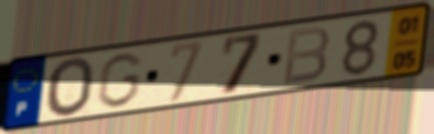7: (219, 31, 267, 98), (166, 40, 209, 104)
8: (338, 17, 384, 79)
B: (280, 24, 333, 88)
G: (94, 50, 146, 110)
O: (44, 55, 97, 121)
